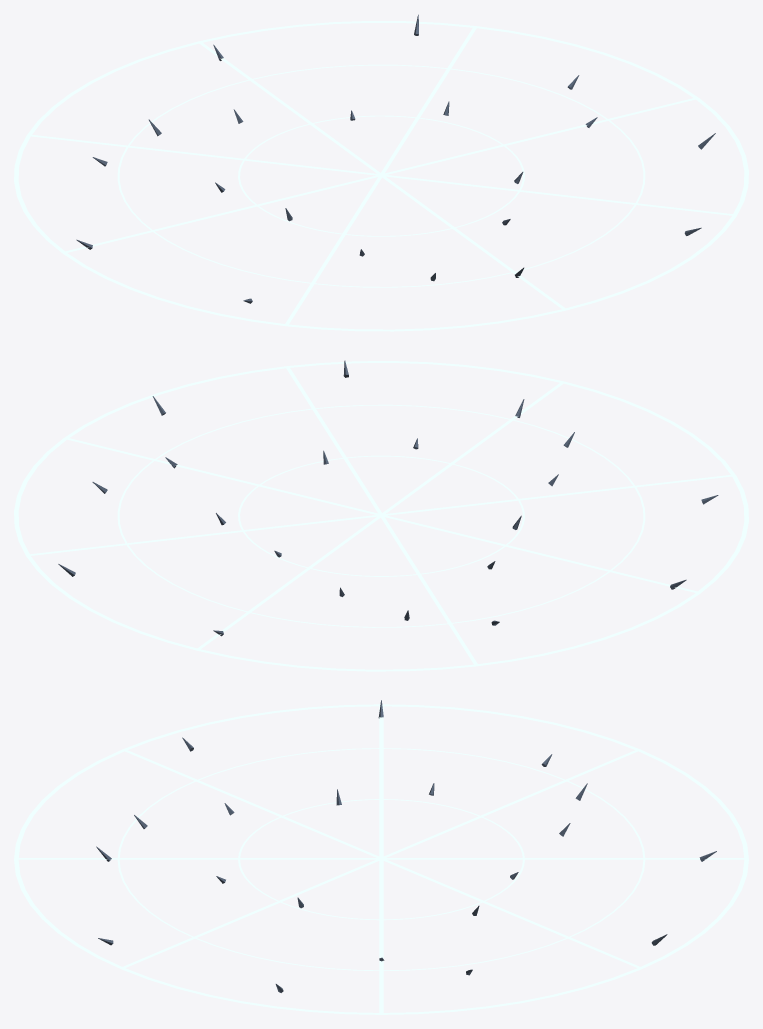
Rendered from FX_BOSS_CoreOverload.glb.
3 views of the same model, one above another, from view 1: azimuth 30°, elevation 25°; view 2: azimuth 150°, elevation 25°; view 3: azimuth 270°, elevation 25° (orthographic).
Parts seen in each view (by area): view 1: FX_BOSS_CoreOverload_Release, FX_BOSS_CoreOverload_Debris; view 2: FX_BOSS_CoreOverload_Release, FX_BOSS_CoreOverload_Debris; view 3: FX_BOSS_CoreOverload_Release, FX_BOSS_CoreOverload_Debris.
Boxes of the visible parts, box(x1,y1,x2,y2) form: FX_BOSS_CoreOverload_Release: box(14, 21, 748, 331); FX_BOSS_CoreOverload_Debris: box(76, 14, 715, 303); FX_BOSS_CoreOverload_Release: box(14, 361, 748, 671); FX_BOSS_CoreOverload_Debris: box(58, 360, 718, 636); FX_BOSS_CoreOverload_Release: box(14, 704, 748, 1014); FX_BOSS_CoreOverload_Debris: box(96, 700, 716, 992).
Size of what is drawn, in the model's own units: 0.0382 by 0.000903 by 0.0382.
